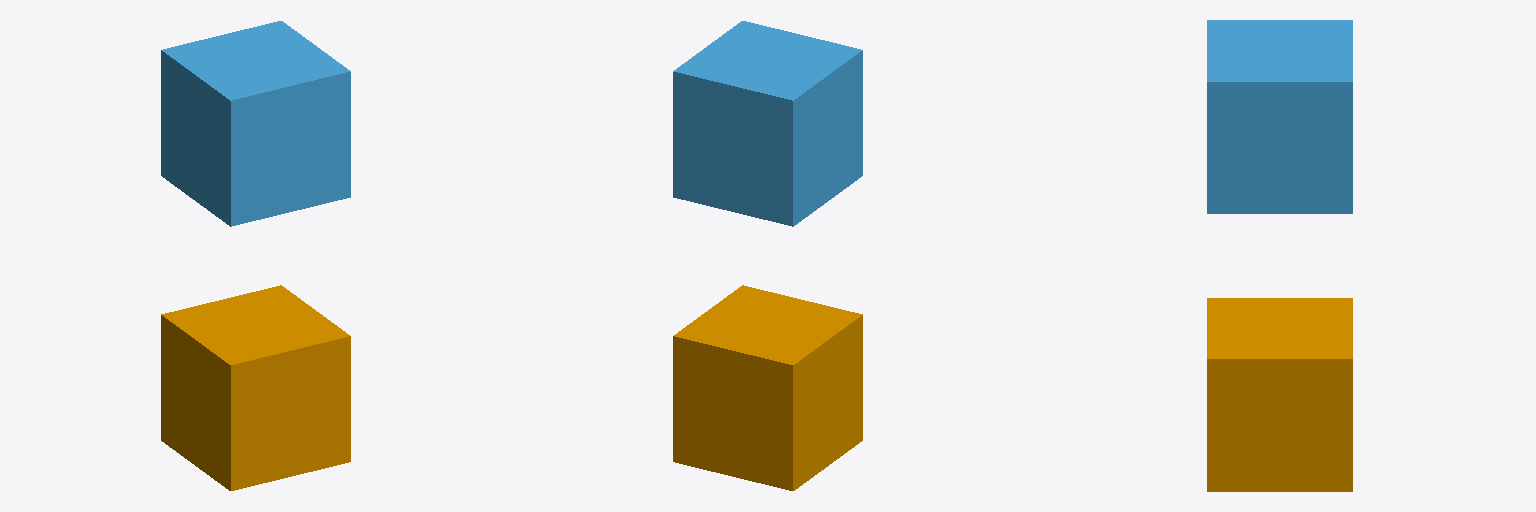
URDF robot description (urdfbot):
<?xml version="1.0"?>
<robot name="urdfbot">
        
  <link name="base_link">
    <visual>        
      <geometry>
        <box size="0.1 0.1 0.1"/>
      </geometry>
    </visual>
  </link>

  <link name="head_link">
    <visual>
    <origin rpy="0 0 0" xyz="0 0 0.1" /> 
      <geometry>
        <box size="0.1 0.1 0.1"/>
      </geometry>
    </visual>
  </link>

    <joint name="base_link_to_head_link_joint" type="revolute">
        <origin xyz="0 0 0.11" rpy="0 0 0"/>
        <parent link="base_link"/>
        <child link="head_link"/>
        <axis xyz="0 0 1"/>
        <limit effort="100" velocity="1.0" lower="-1.57" upper="1.57"/>
    </joint>

</robot>

--- What the picture shows (computed from the rendered views, not written in the file) ---
The picture shows the robot from 3 angles, left to right: view 1: azimuth 30°, elevation 25°; view 2: azimuth 150°, elevation 25°; view 3: azimuth 270°, elevation 25°; orthographic projection.
Model urdfbot with 2 links and 1 joints (1 revolute), rooted at base_link, posed all joints at 0.
Links seen in each view (by area): view 1: base_link, head_link; view 2: base_link, head_link; view 3: base_link, head_link.
Boxes of the visible links, x1,y1,x2,y2 form: base_link: [161, 285, 350, 490]; head_link: [161, 21, 350, 226]; base_link: [673, 285, 862, 490]; head_link: [673, 21, 862, 226]; base_link: [1207, 298, 1352, 491]; head_link: [1207, 20, 1352, 213].
Bounding box of the posed robot: 0.1 × 0.1 × 0.31 m (x, y, z).
Geometry: primitives only (box / cylinder / sphere), no mesh files.